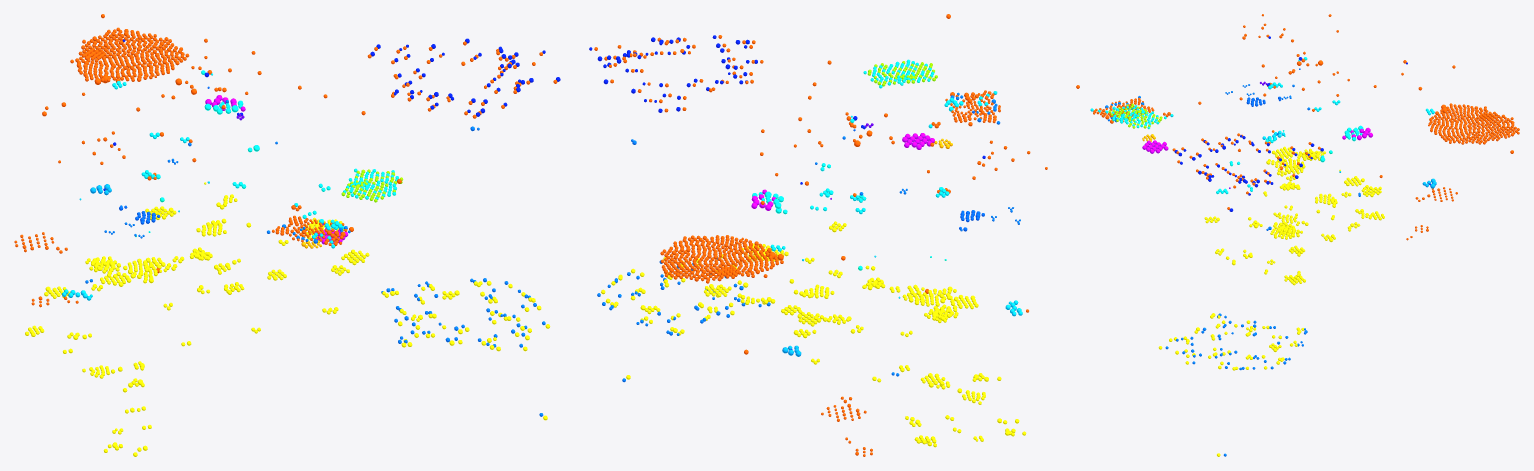
Rendered from task-39e479e1f-layout.gltf.
The picture shows the model from 3 angles, left to right: view 1: azimuth 30°, elevation 25°; view 2: azimuth 150°, elevation 25°; view 3: azimuth 270°, elevation 25°; orthographic projection. The views are drawn at different scales.
Parts seen in each view (by area): view 1: normal_xml_files, normal_java_files, normal_properties_files, normal_no_ext_files, normal_md_files, normal_bat_files; view 2: normal_xml_files, normal_java_files, normal_md_files, normal_properties_files, normal_no_ext_files, normal_bat_files, normal_dcm_files, normal_xsl_files; view 3: normal_xml_files, normal_java_files, normal_properties_files, normal_md_files, normal_no_ext_files.
Part boxes in pixels (x1,y1,x2,y2): normal_xml_files: [14, 14, 557, 307]; normal_java_files: [25, 194, 550, 456]; normal_properties_files: [85, 100, 545, 416]; normal_no_ext_files: [201, 70, 398, 199]; normal_md_files: [103, 38, 560, 190]; normal_bat_files: [341, 169, 403, 202]; normal_xml_files: [594, 14, 1047, 456]; normal_java_files: [601, 221, 1026, 447]; normal_md_files: [589, 35, 985, 349]; normal_properties_files: [597, 92, 1020, 382]; normal_no_ext_files: [752, 59, 934, 208]; normal_bat_files: [867, 61, 937, 86]; normal_dcm_files: [751, 133, 934, 210]; normal_xsl_files: [770, 91, 997, 251]; normal_xml_files: [1076, 14, 1519, 240]; normal_java_files: [1158, 146, 1384, 456]; normal_properties_files: [1105, 84, 1360, 456]; normal_md_files: [1174, 36, 1430, 211]; normal_no_ext_files: [1112, 57, 1363, 141].
Size of the model in its own units: 314 by 236 by 325.
